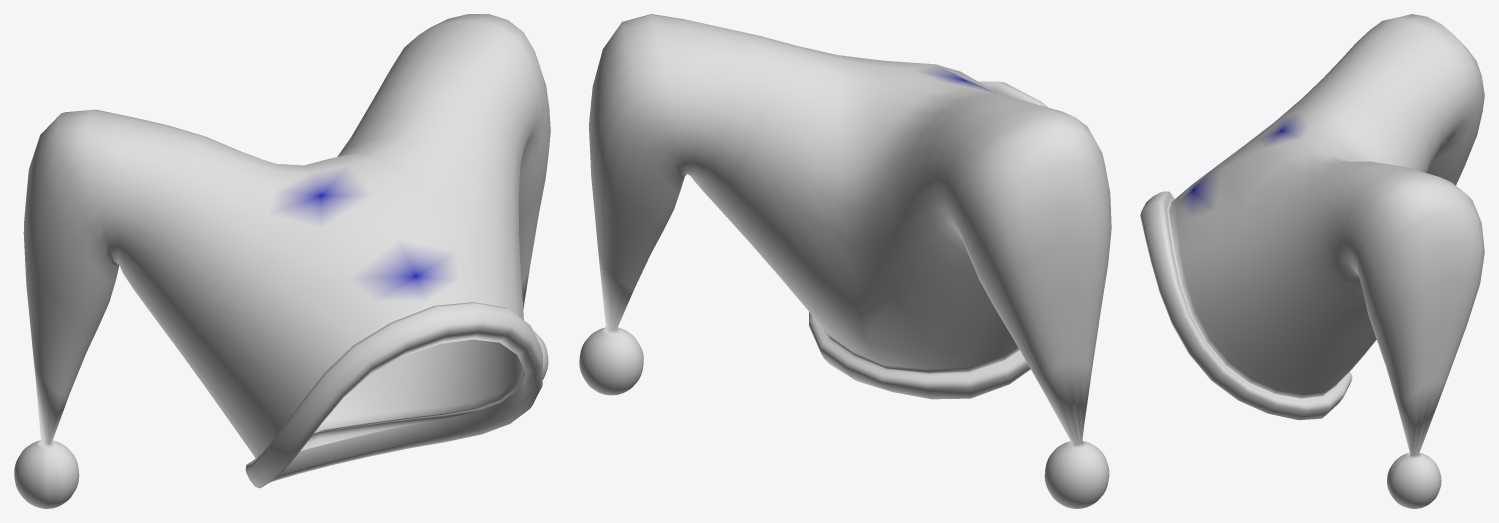
The model's file is hat_9ysi3l7apf.fbx.
3 renders of one model, left to right at view 1: azimuth 30°, elevation 25°; view 2: azimuth 150°, elevation 25°; view 3: azimuth 270°, elevation 25°, orthographic. The views are drawn at different scales.
Parts seen in each view (by area): view 1: NurbsPath.002; view 2: NurbsPath.002; view 3: NurbsPath.002.
Part boxes in pixels (x1=…): NurbsPath.002: x1=14, y1=14, x2=550, y2=508; NurbsPath.002: x1=579, y1=14, x2=1111, y2=508; NurbsPath.002: x1=1140, y1=14, x2=1484, y2=508.
Bounding box in the file's own units: 173 × 120 × 120.
